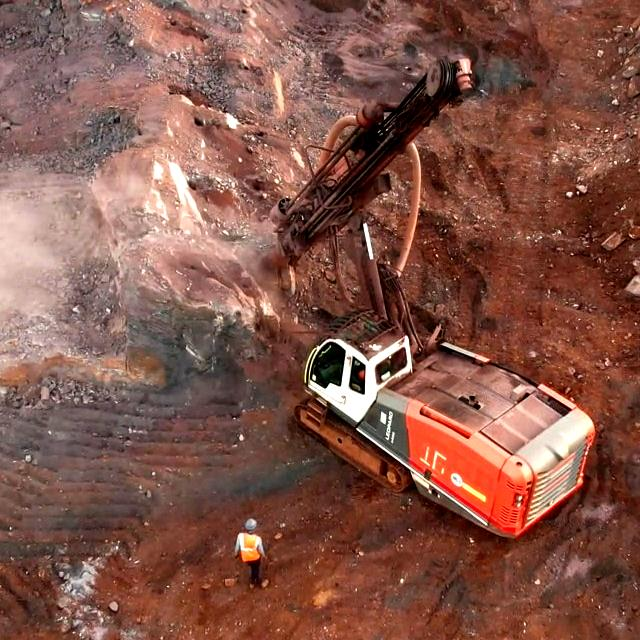Blast rig: (309, 362, 543, 507)
person: (232, 519, 267, 590)
